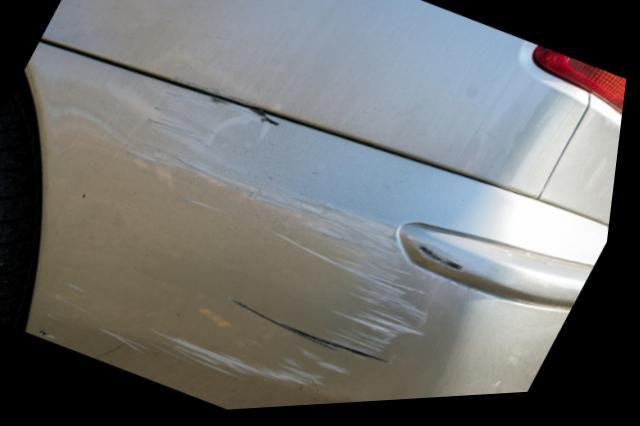scratch: (41, 91, 476, 400)
